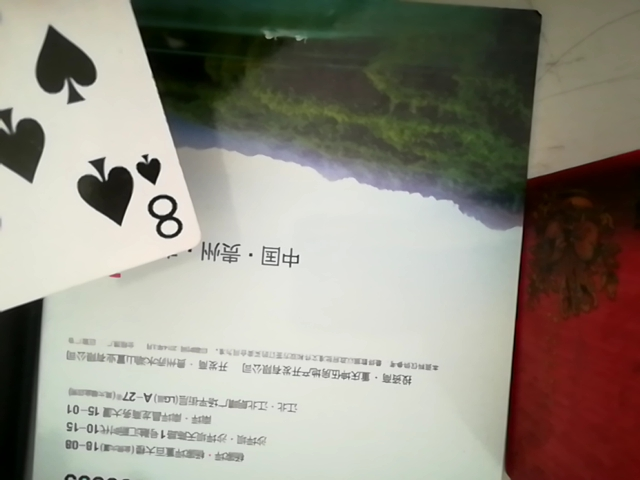ht 8: (0, 0, 208, 368)
